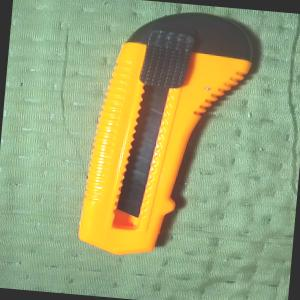estilete: (75, 2, 258, 264)
